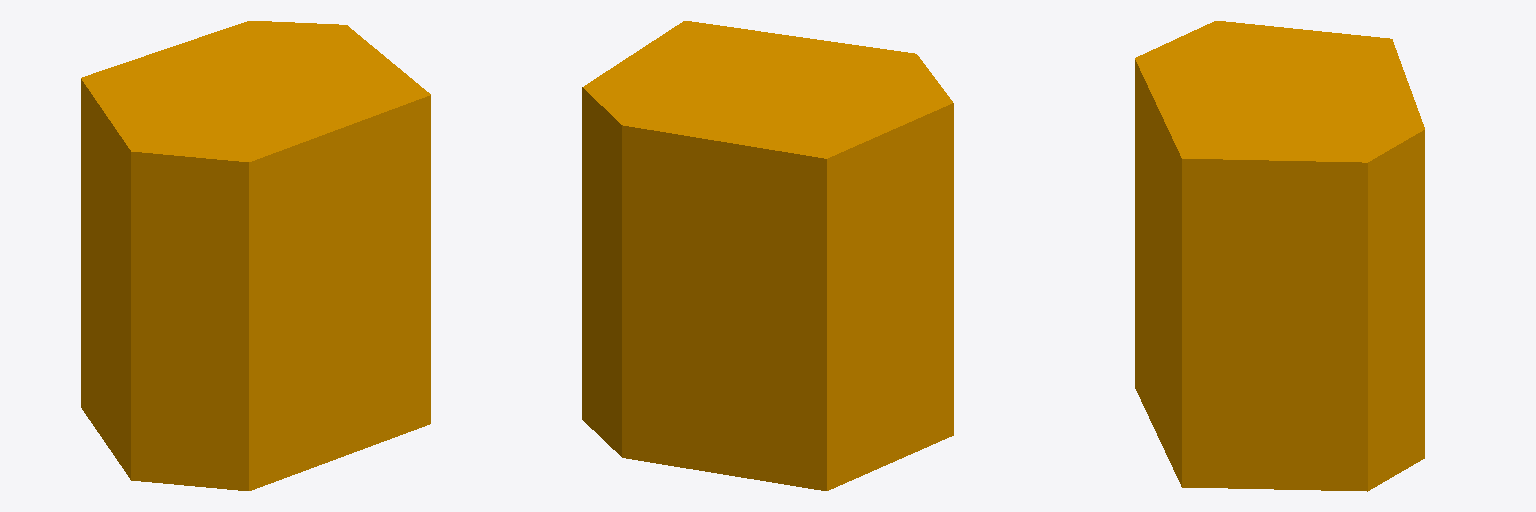
The robot description file, URDF, robot "object":
<?xml version="1.0"?>
<robot name="object">
  <link name="object">
    <visual>
      <origin xyz="0 0 0"/>
      <geometry>
        <mesh filename="meshes/generated/col_030.obj" scale="0.03 0.03 0.03"/>
      </geometry>
    </visual>
    <collision>
      <origin xyz="0 0 0"/>
      <geometry>
        <mesh filename="meshes/generated/col_030.obj" scale="0.03 0.03 0.03"/>
      </geometry>
    </collision>
    <inertial>
      <density value="1000.0"/>
    </inertial>
  </link>
</robot>

--- What the picture shows (computed from the rendered views, not written in the file) ---
The picture shows the robot from 3 angles, left to right: view 1: azimuth 30°, elevation 25°; view 2: azimuth 150°, elevation 25°; view 3: azimuth 270°, elevation 25°; orthographic projection.
Robot: object — 1 links, 0 joints (none); root link object; default pose: all joints at 0.
Visible links, largest first — view 1: object; view 2: object; view 3: object.
Boxes of the visible links, x1,y1,x2,y2 form: object: [81, 21, 430, 490]; object: [582, 21, 953, 490]; object: [1135, 21, 1424, 491].
Size in the robot's own frame: 0.0556 by 0.0481 by 0.06 metres.
Meshes: 1 distinct files referenced, 1 mesh visuals loaded (1 OBJ).
